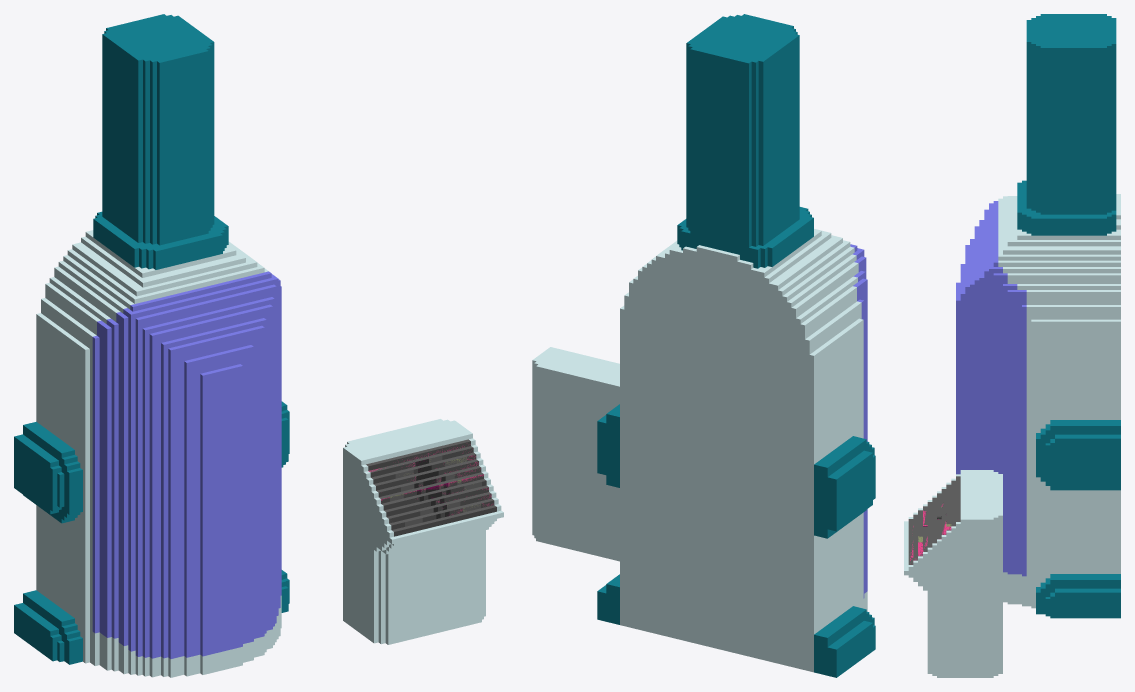
Rendered from Sleep_Device1-2.fbx.
The picture shows the model from 3 angles, left to right: view 1: azimuth 30°, elevation 25°; view 2: azimuth 150°, elevation 25°; view 3: azimuth 270°, elevation 25°; orthographic projection. The views are drawn at different scales.
Parts seen in each view (by area): view 1: Sleep Device1-2.002, Sleep Device1-2.001, Sleep Device1-2.003, Sleep Device1-2.004, Sleep Device1-2.005, Sleep Device1-2; view 2: Sleep Device1-2.001, Sleep Device1-2.003, Sleep Device1-2.004, Sleep Device1-2.002; view 3: Sleep Device1-2.001, Sleep Device1-2.002, Sleep Device1-2.003, Sleep Device1-2.004, Sleep Device1-2.
Part boxes in pixels (x1,y1,x2,y2): Sleep Device1-2.002: [92, 271, 281, 658]; Sleep Device1-2.001: [14, 211, 289, 677]; Sleep Device1-2.003: [102, 14, 214, 245]; Sleep Device1-2.004: [343, 419, 503, 644]; Sleep Device1-2.005: [368, 441, 496, 536]; Sleep Device1-2: [366, 439, 496, 531]; Sleep Device1-2.001: [597, 207, 875, 677]; Sleep Device1-2.003: [686, 14, 799, 247]; Sleep Device1-2.004: [532, 347, 619, 561]; Sleep Device1-2.002: [850, 244, 867, 598]; Sleep Device1-2.001: [998, 180, 1120, 618]; Sleep Device1-2.002: [956, 201, 1026, 576]; Sleep Device1-2.003: [1026, 14, 1116, 214]; Sleep Device1-2.004: [904, 470, 1002, 677]; Sleep Device1-2: [908, 476, 960, 564].
Size of the model in its own units: 8.3 by 12.5 by 4.6.
